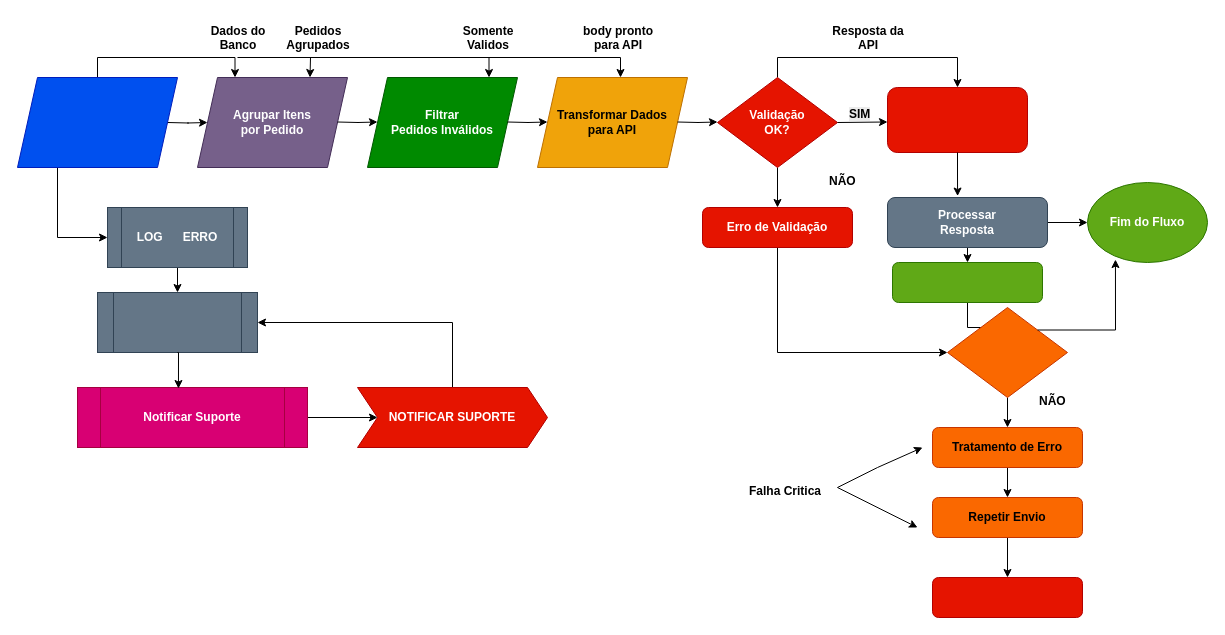
Some shapes in this 1225 by 635 pixel diagram are drawn without their labels. Here are the shapes that lost their labels. From the top down, the box of each, then its label:
(16, 76, 178, 168): Query SQL Pedidos Confirmados
(886, 86, 1028, 152): Enviar para API POST / Pedidos
(892, 262, 1042, 302): Atualizar o Status dos Pedidos
(96, 292, 258, 352): Registar Erro
(946, 306, 1068, 398): Sucesso?
(932, 576, 1082, 618): Registrar Falha
